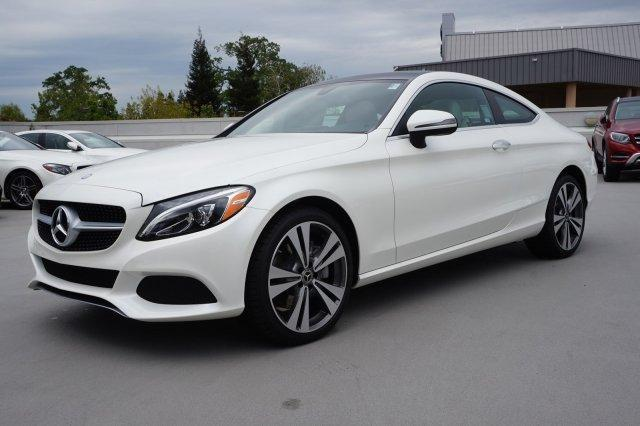C300Coupe: (22, 68, 600, 342)
